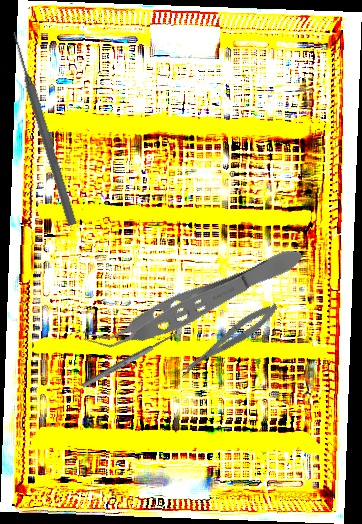Micro Scissor: (173, 298, 283, 381)
Pusher: (7, 30, 80, 227)
Surgical Spoon: (80, 328, 183, 390)
Tissue Forceps: (80, 237, 309, 366)
